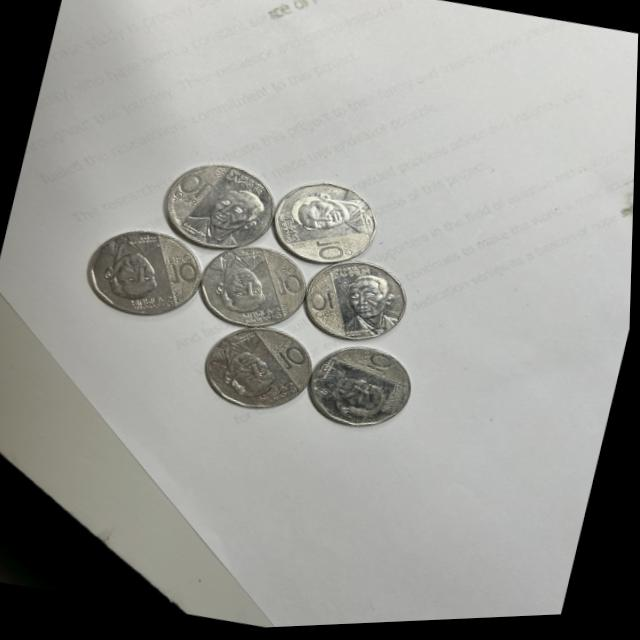10_New_Front: (159, 163, 222, 225), (307, 228, 358, 270), (350, 351, 411, 384), (267, 333, 314, 375), (259, 261, 300, 302), (162, 252, 204, 292), (308, 279, 343, 326)
